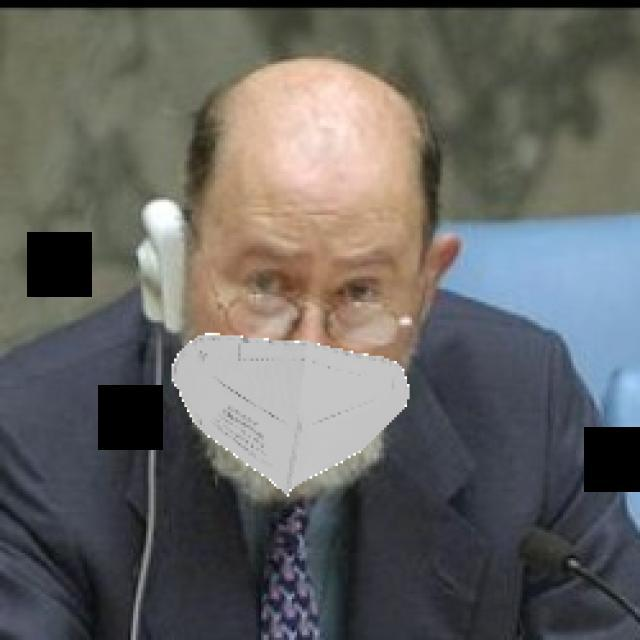kn95: (170, 161, 442, 492)
